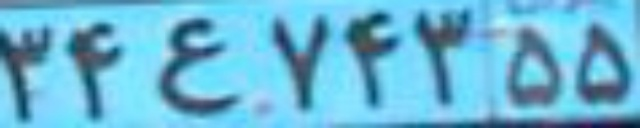3: (412, 6, 477, 106), (0, 23, 49, 120)
4: (65, 21, 133, 121), (343, 9, 398, 108)
5: (573, 21, 632, 105), (501, 26, 563, 104)
7: (265, 12, 333, 112)
ain: (155, 16, 242, 115)
